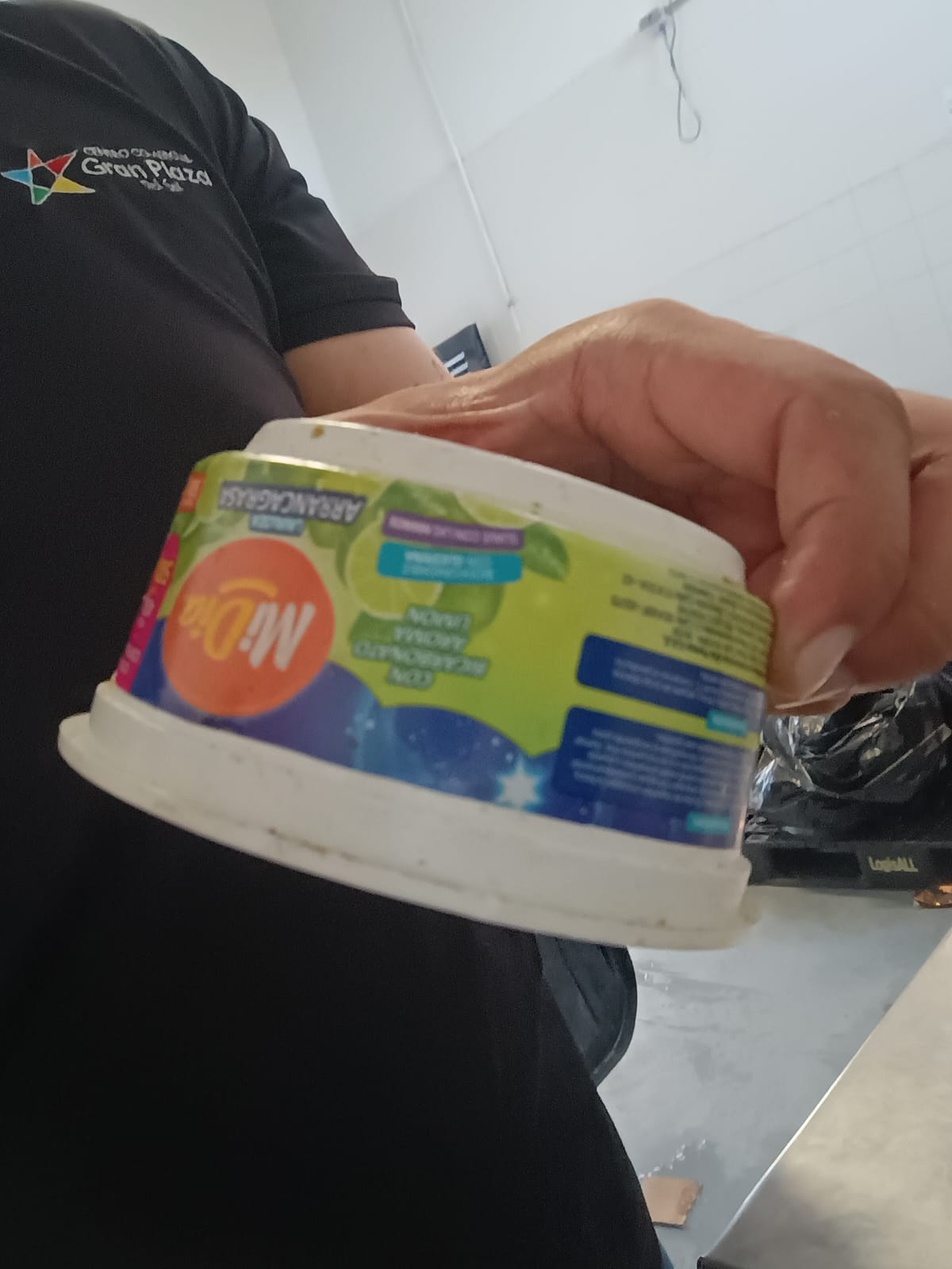Plastico: (57, 416, 775, 956)
